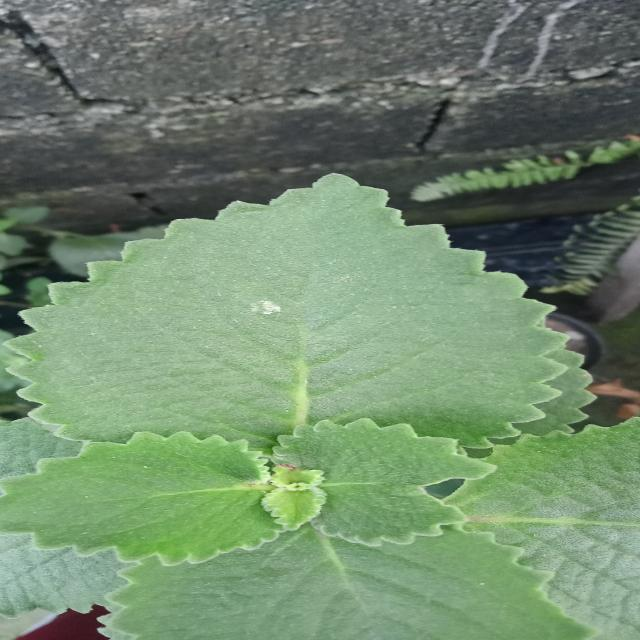Oregano: (12, 158, 606, 580)
